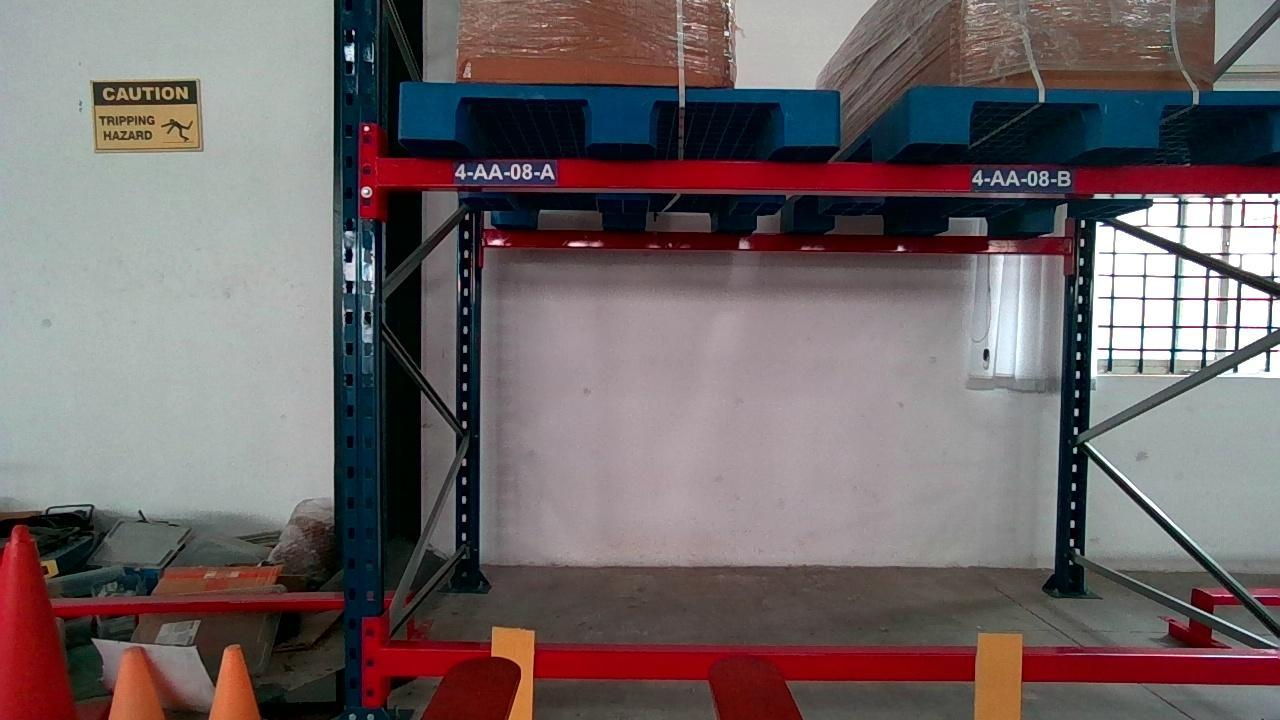h_rack: (385, 649, 1278, 684), (383, 156, 1278, 188)
orange_strip: (974, 633, 1022, 719), (490, 627, 532, 719)
small_pallet: (399, 86, 838, 147), (909, 86, 1280, 156)
